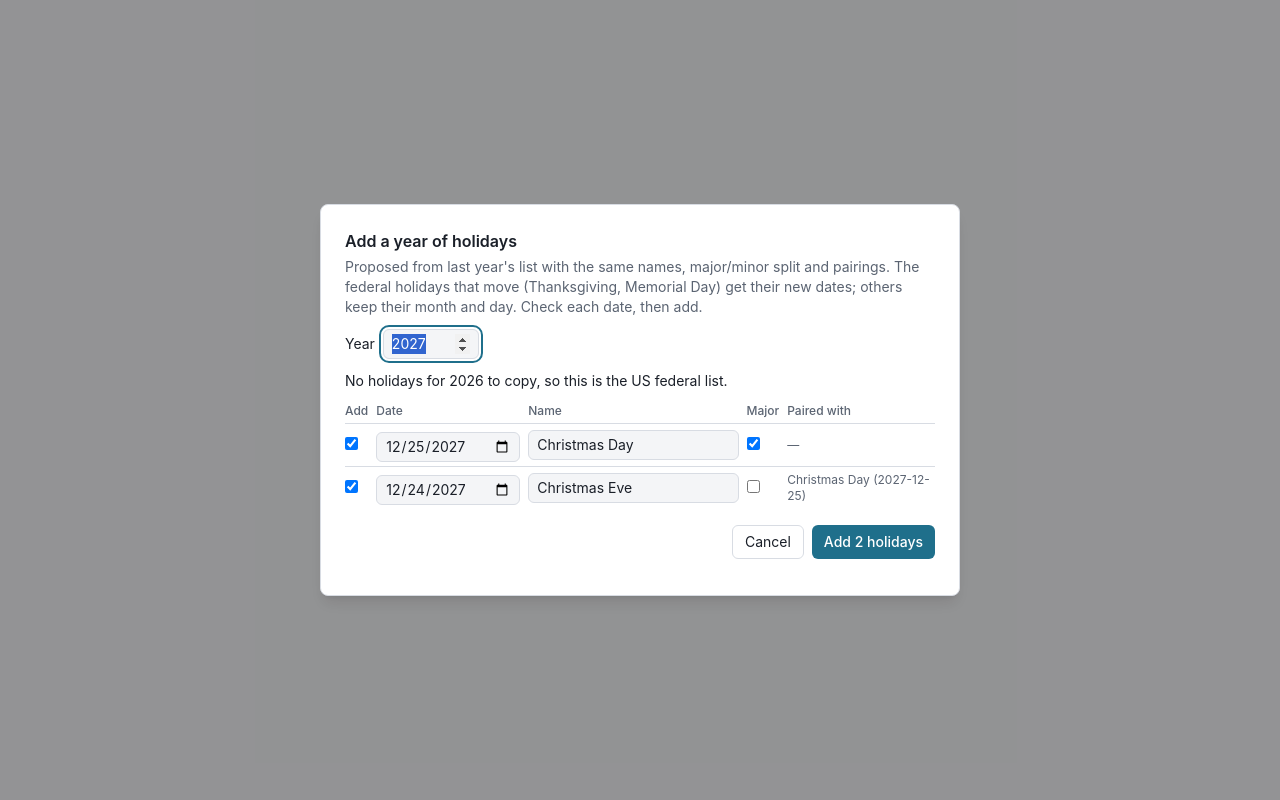
Test: Settings › Holidays › Add a year › will not add holidays for a year past 2200
The image size is (1280, 800).
expect the button "Add 2 holidays" is shown: met, box top-left (812, 525), bottom-right (935, 559)
Replace the text in the number field labelled "Year" with "2201": [431, 344] box top-left (383, 329), bottom-right (479, 359)
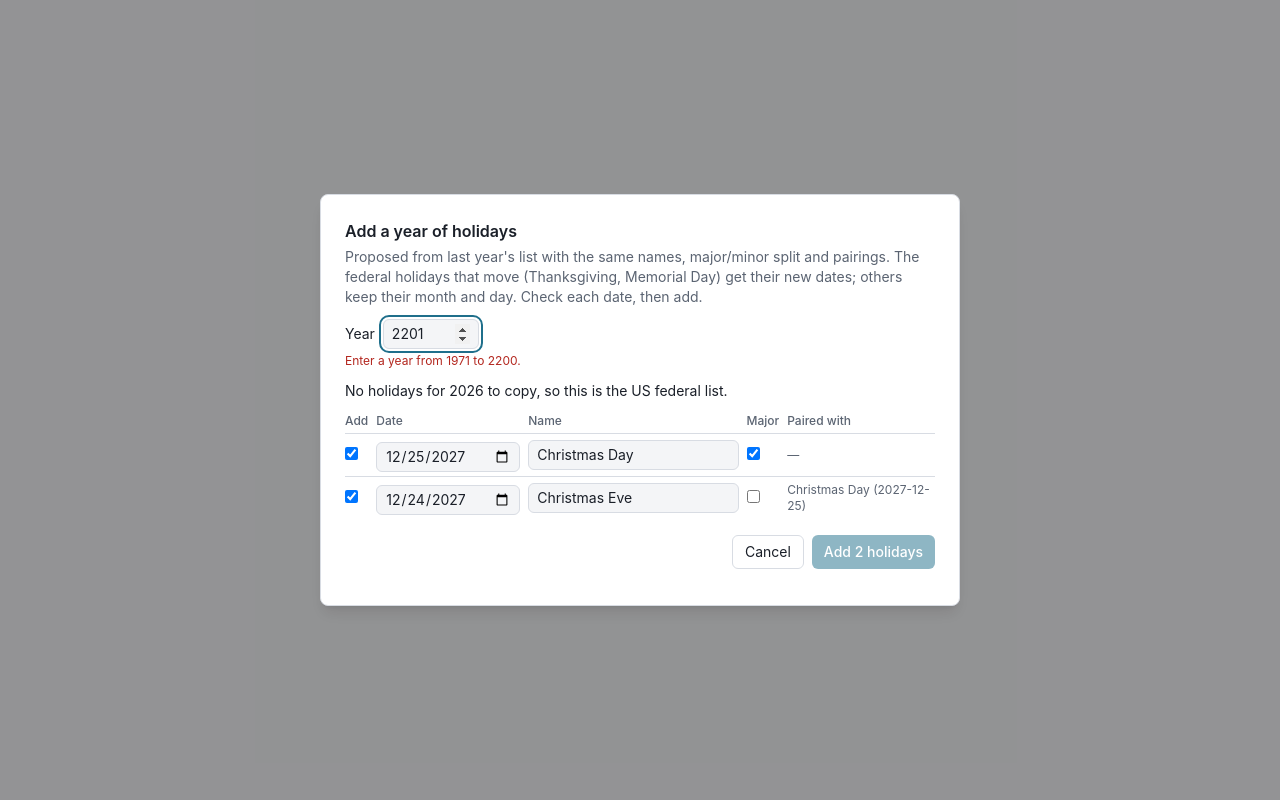
expect the text "Enter a year from 1971 to 2200." is shown: met, box top-left (345, 353), bottom-right (521, 368)
expect the button "Add 2 holidays" is disabled: met, box top-left (812, 535), bottom-right (935, 569)
